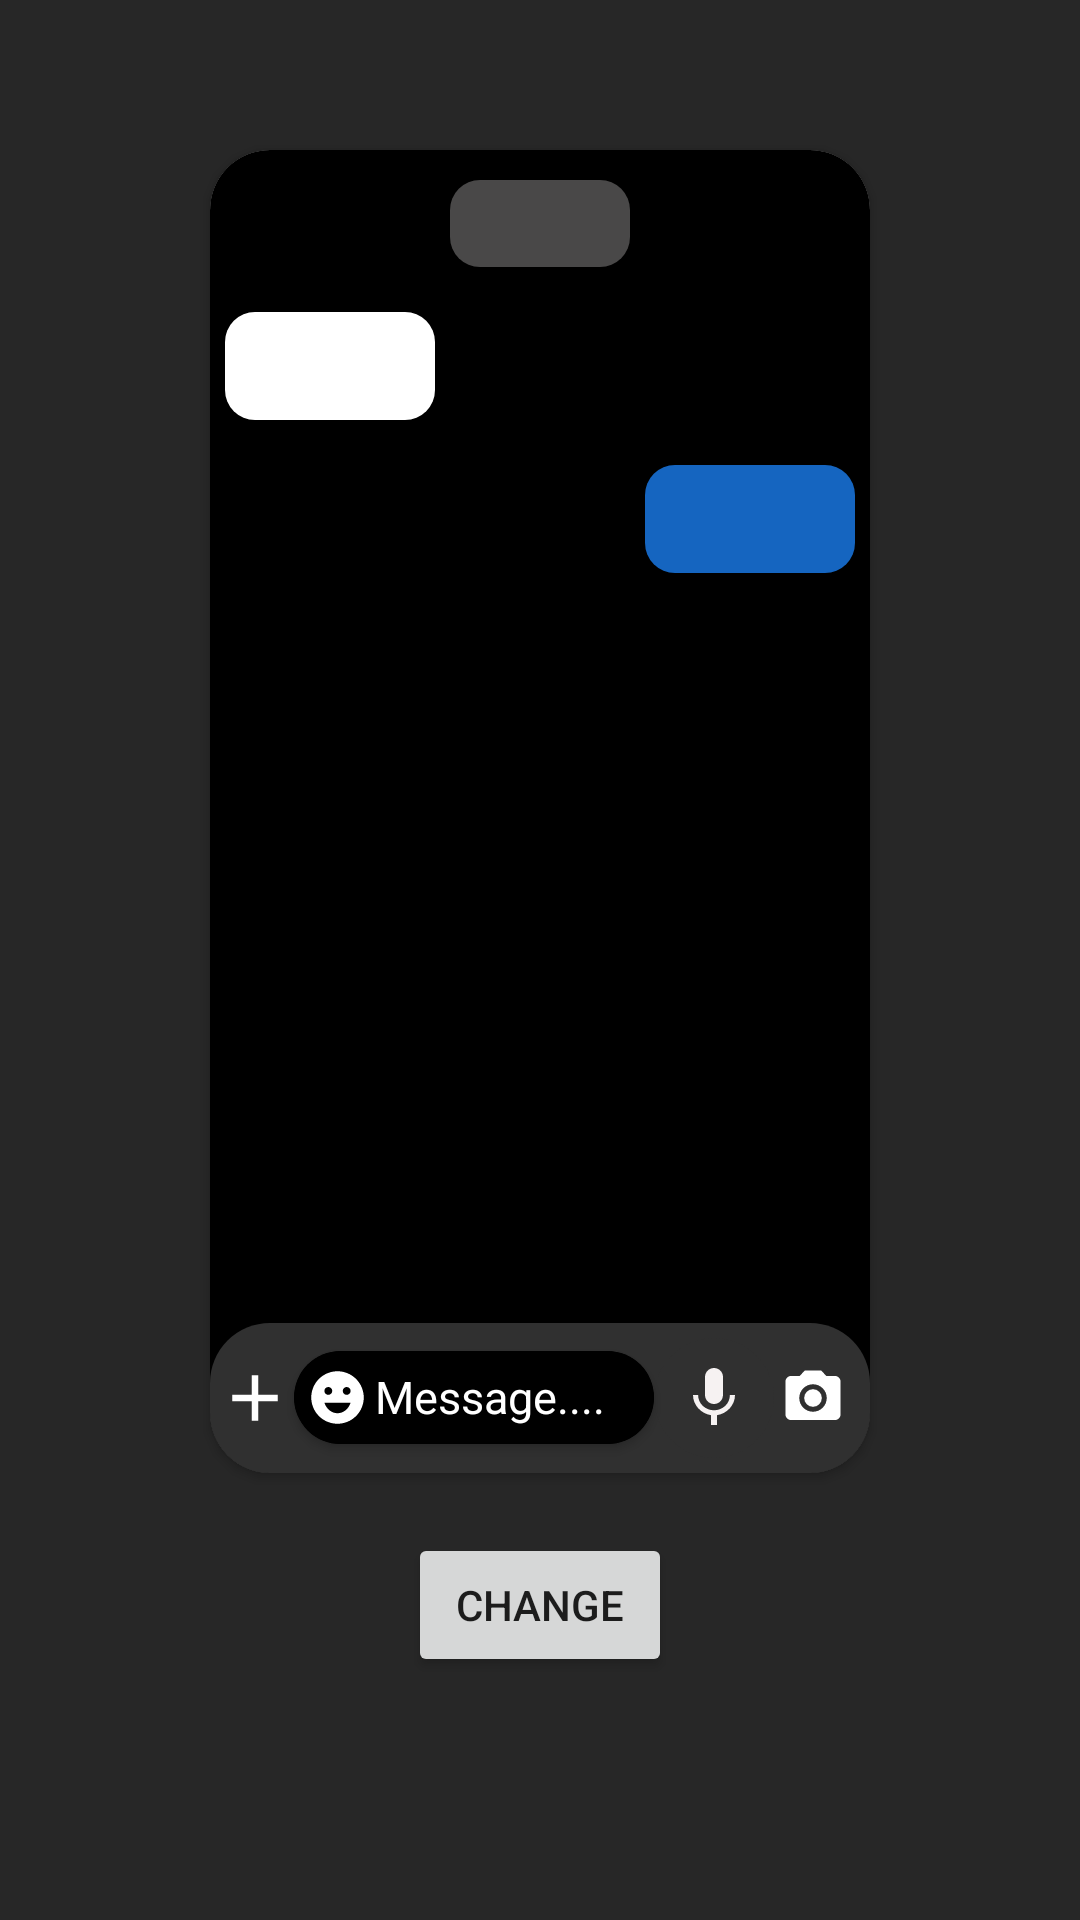

Screen size 1080*1920. Icon name, then its box in pixels as (x1, y1, x2, y2):
add: (232, 1375, 278, 1421)
camera: (785, 1370, 841, 1420)
emoji emotions: (311, 1371, 364, 1424)
mic: (693, 1368, 735, 1425)
